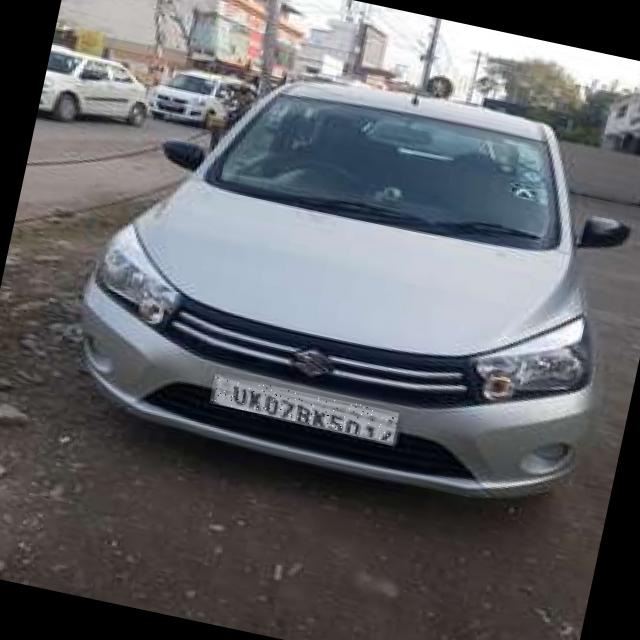Plate: (210, 375, 400, 443)
